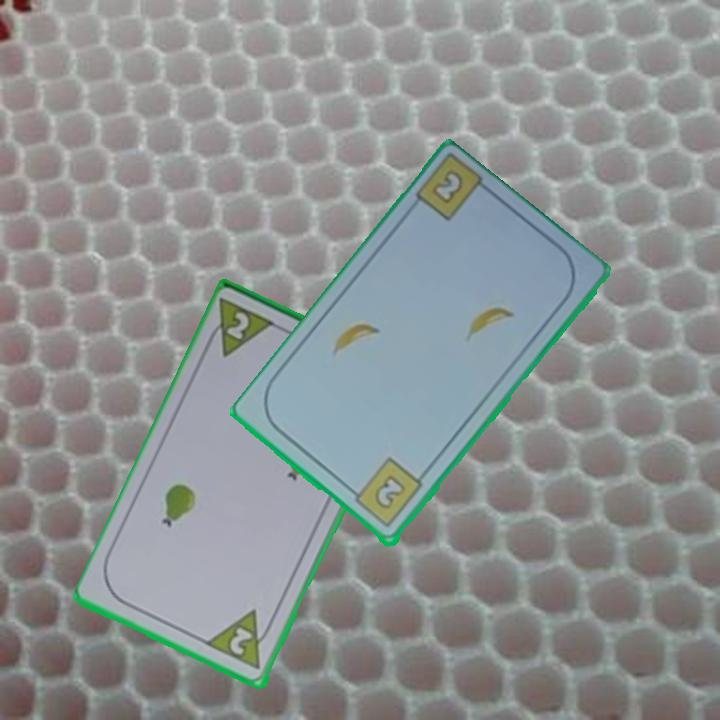2b: (345, 455, 426, 532), (428, 166, 467, 208)
2p: (201, 295, 280, 361), (203, 606, 278, 674)
